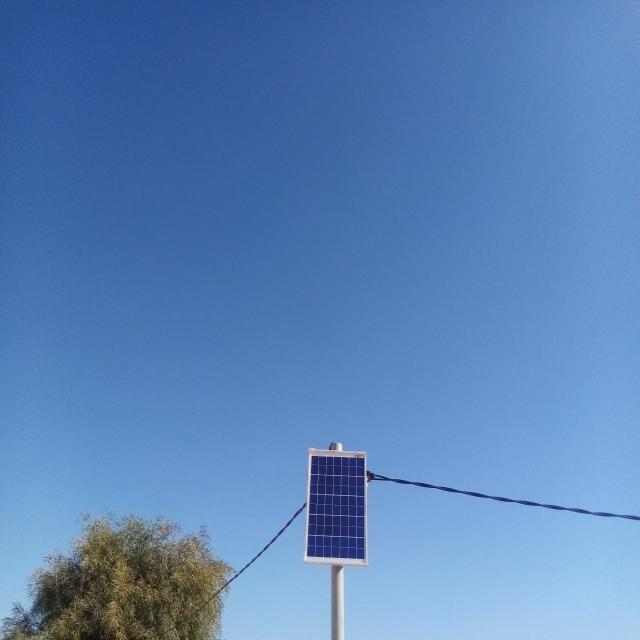no faulty: (305, 448, 366, 565)
